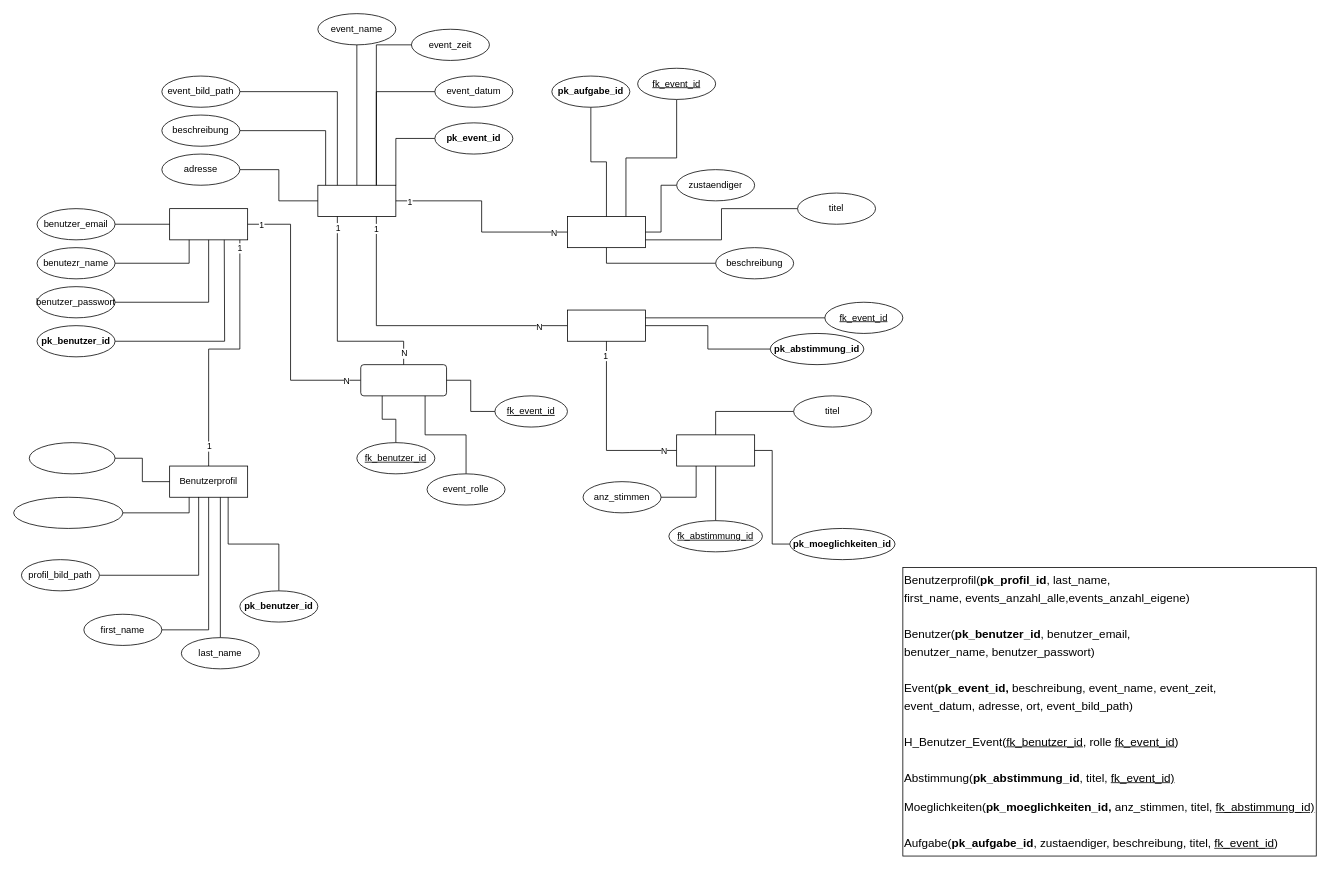
The diagram is 1330 pixels wide and 877 high, and some of its shapes have lost their labels. The shapes that lost their labels are listed below. From the top down, each one's box as (x1, y1, x2, y2) in pixels, then its label:
(317, 184, 396, 216): Event
(169, 208, 248, 240): Benutzer
(567, 216, 645, 248): Aufgabe
(567, 309, 645, 341): Abstimmung
(360, 364, 447, 396): H_Benutzer_Event
(28, 442, 115, 474): events_anzahl_alle
(676, 434, 755, 466): Moeglichkeiten
(13, 496, 123, 528): events_anzahl_eigene
